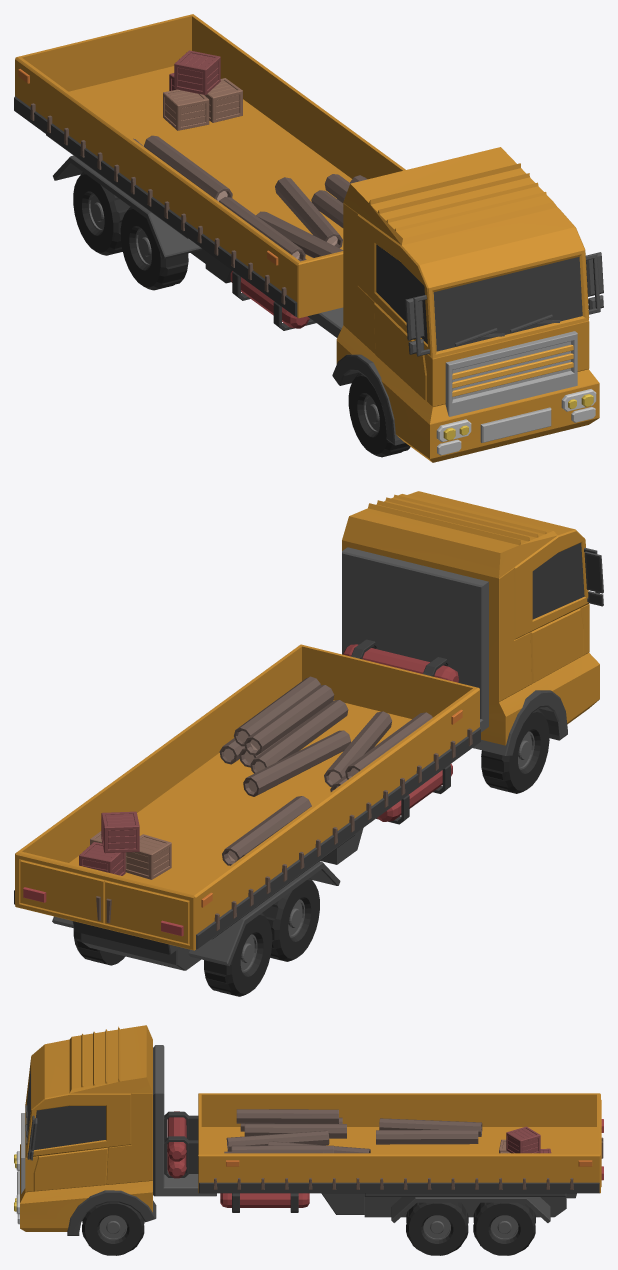
The picture shows the model from 3 angles, top to bottom: view 1: azimuth 30°, elevation 25°; view 2: azimuth 150°, elevation 25°; view 3: azimuth 270°, elevation 25°; orthographic projection. The views are drawn at different scales.
Visible parts, largest first — view 1: truck.005; view 2: truck.005; view 3: truck.005.
Part boxes in pixels (box(x1,y1,x2,y2)): truck.005: box(14, 14, 603, 462); truck.005: box(14, 491, 603, 996); truck.005: box(14, 1025, 603, 1255).
Size of the model in its own units: 3.29 by 4.07 by 12.11.
Materials: 1 (1 with a texture image).
